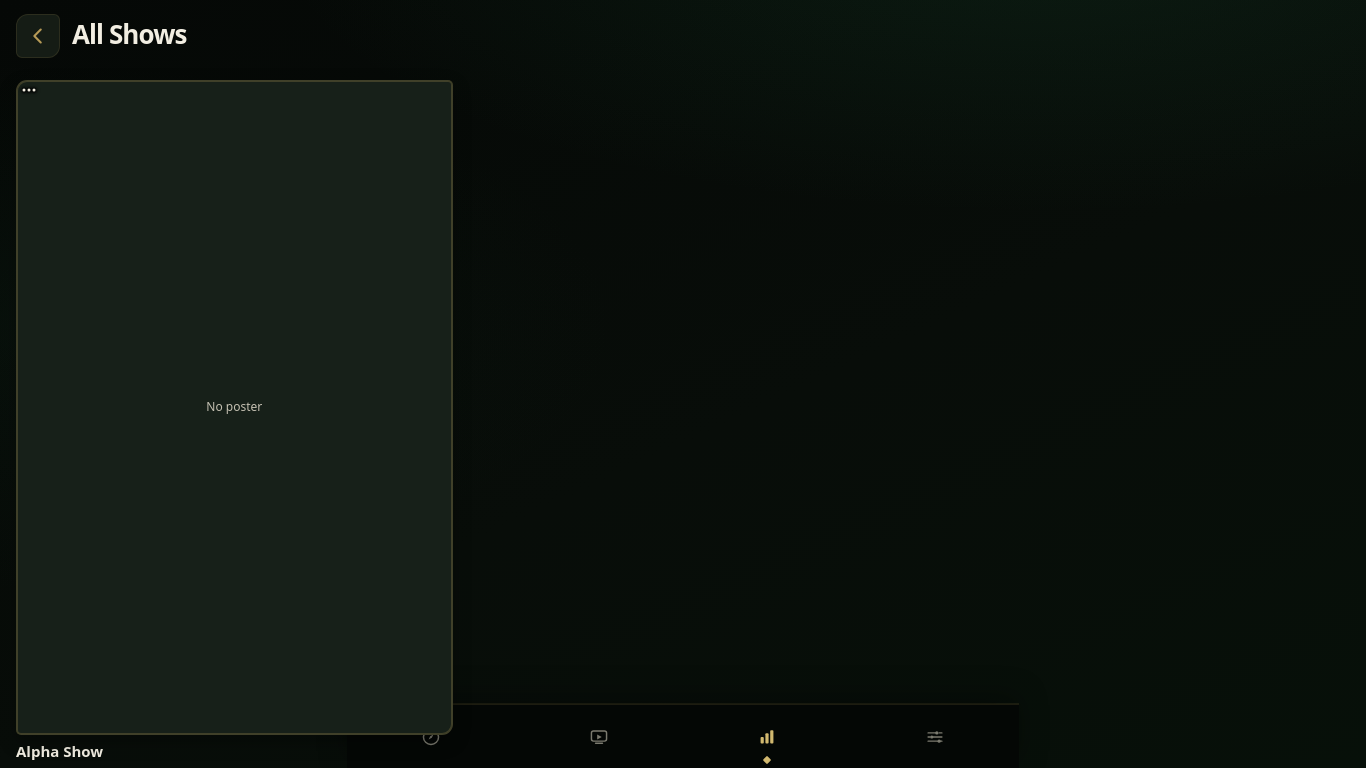
Test case: Stats + StatsAllShows integration — actions update shared state › removing the last remaining show redirects cleanly to the main empty state instead of leaving a stale /stats/all screen
Click the button named "Actions for Alpha Show": point(38, 102) [16,80,60,124]
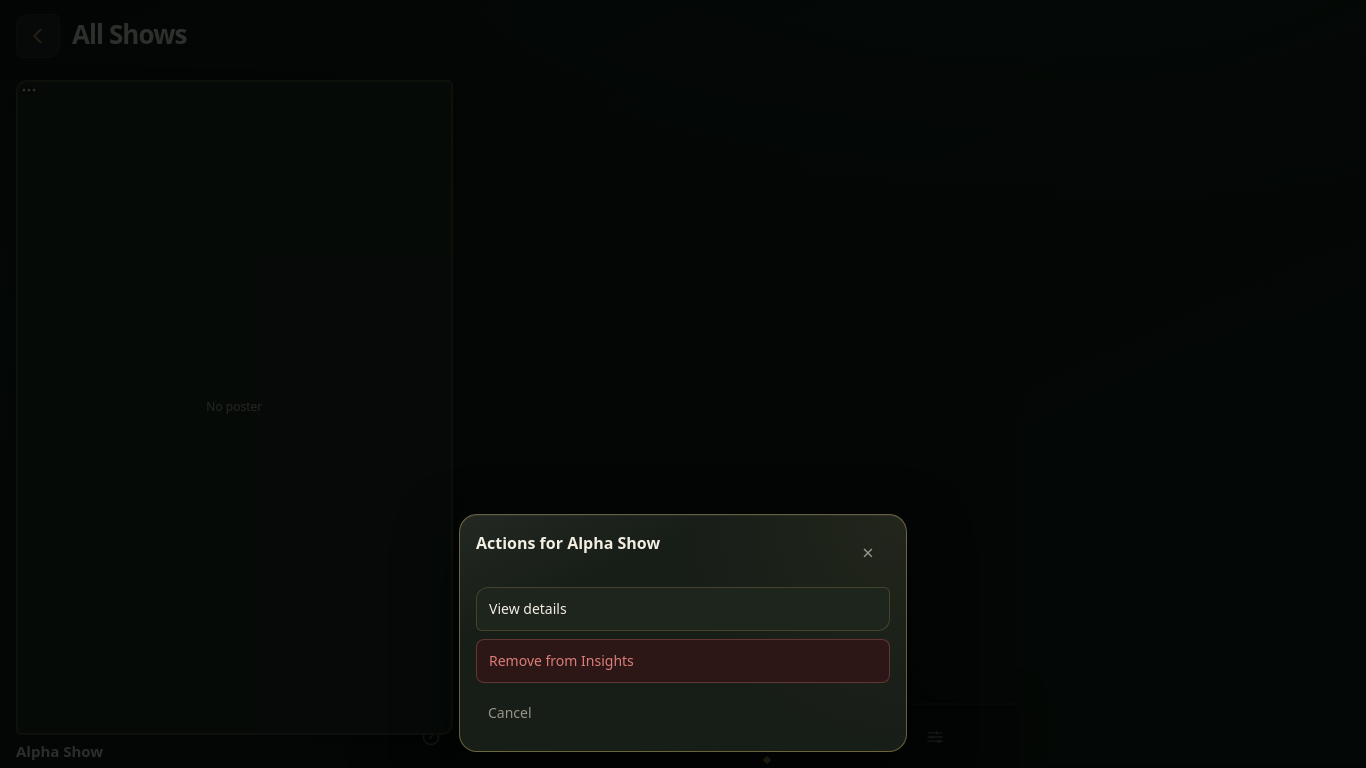
Click the button "Remove from Insights": point(561, 660) [476,639,890,683]
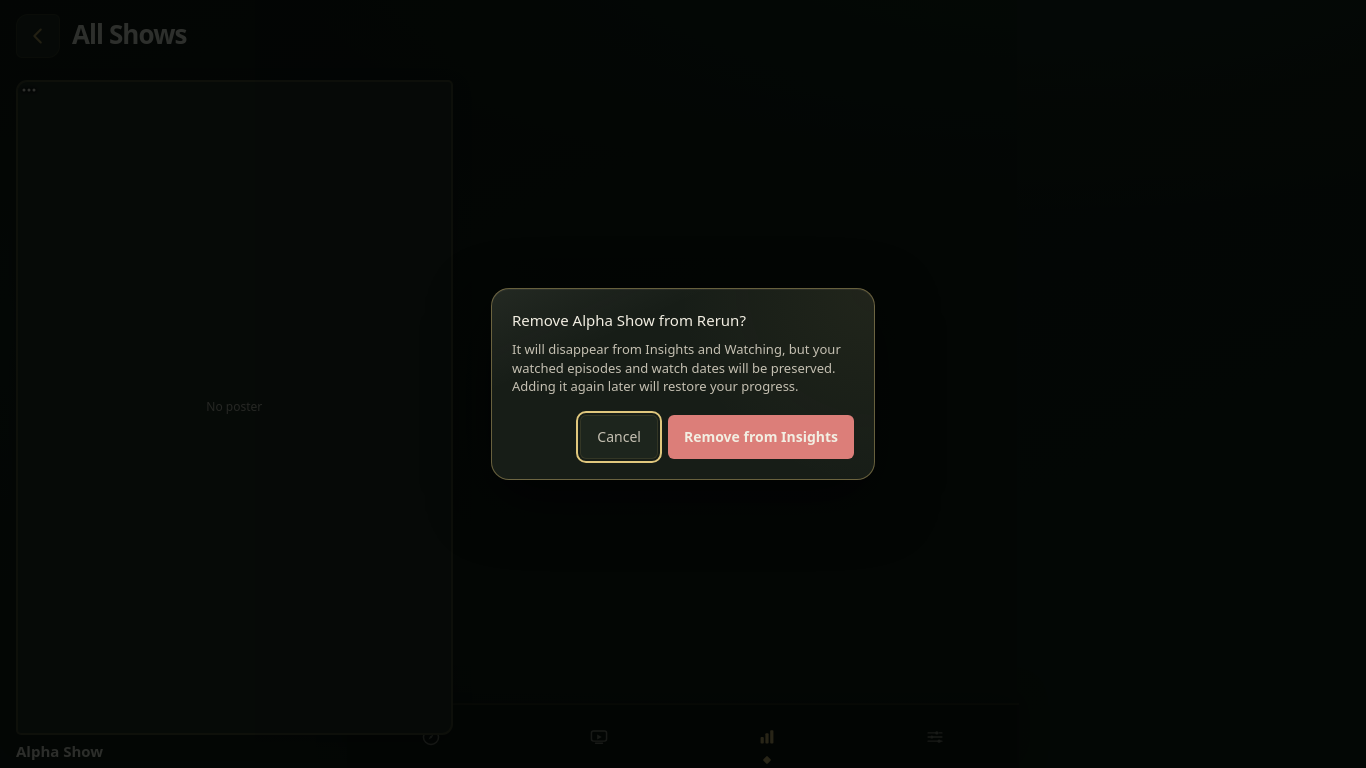
Click the button "Remove from Insights": point(761, 437) [668,415,854,459]
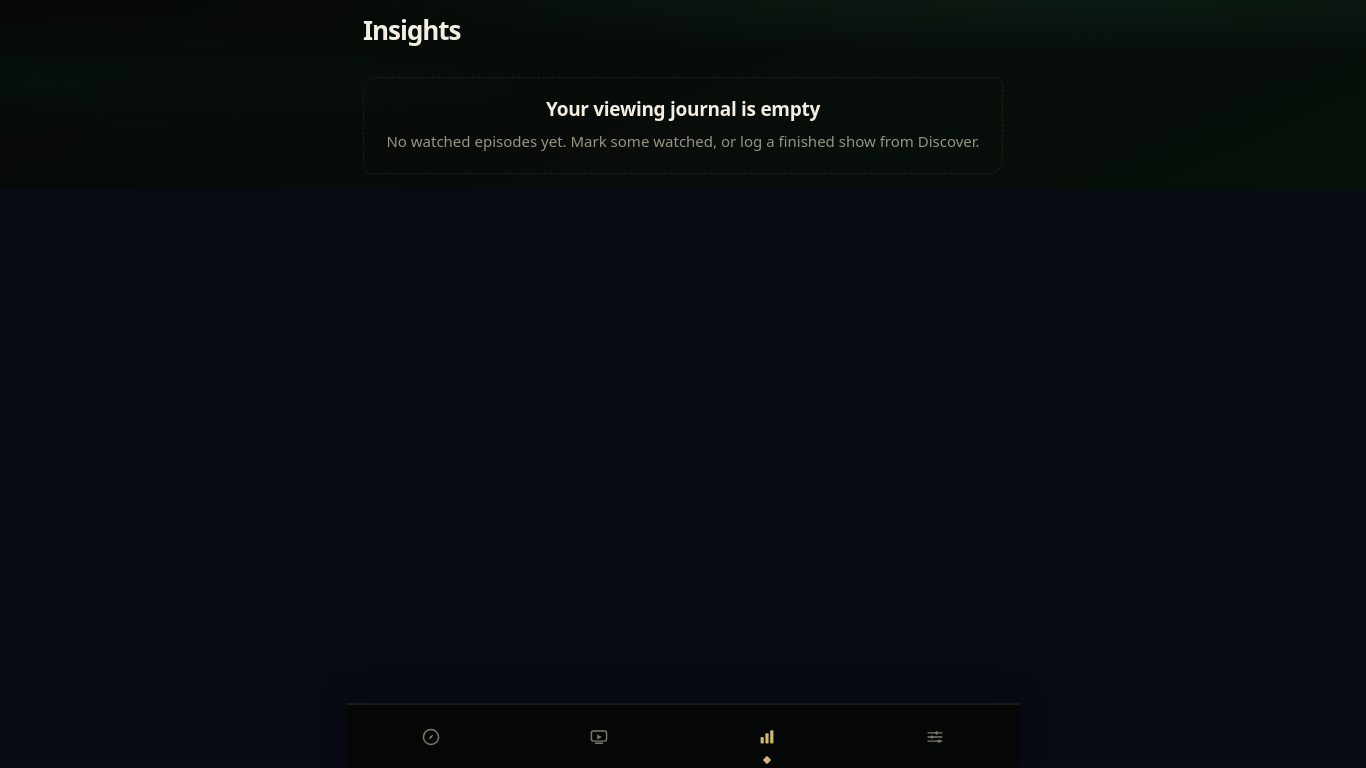
Now the element with class "nested-header" is gone
Now the text "Your viewing journal is empty" is shown, box [546,96,820,122]
